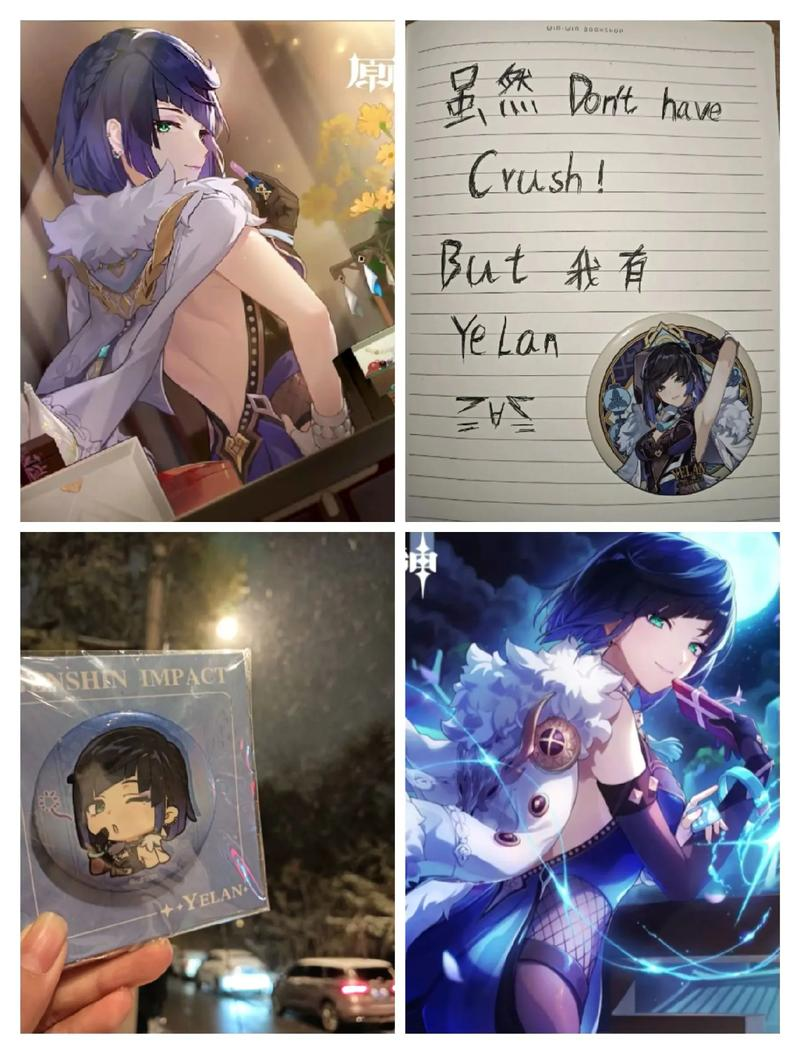夜兰: (402, 526, 760, 1024), (45, 39, 368, 499), (610, 327, 748, 504), (51, 723, 206, 880)
